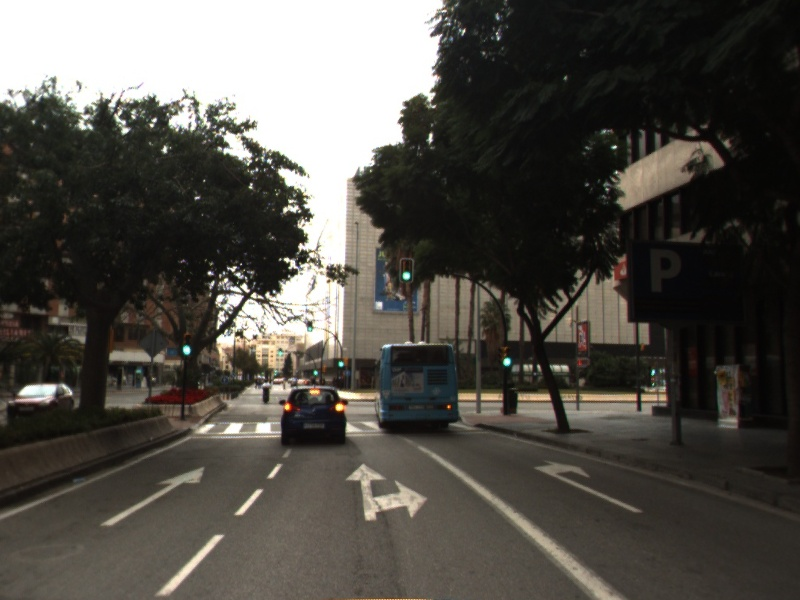RIGHT: (532, 458, 647, 515)
STRAIGHT: (98, 464, 206, 528)
STRAIGHT_RIGHT: (343, 460, 430, 523)
